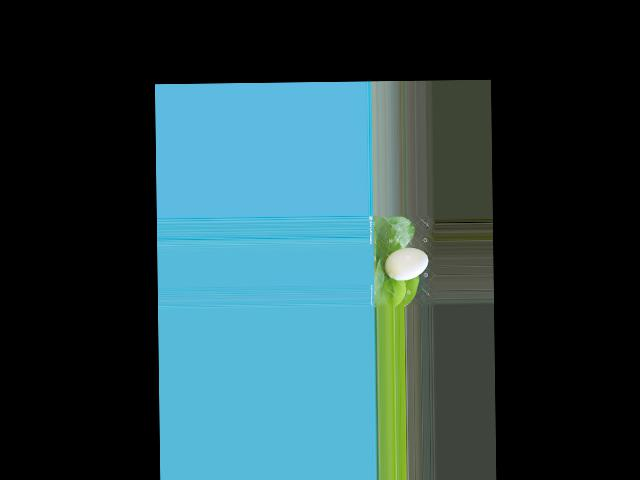egg: (384, 247, 428, 281)
